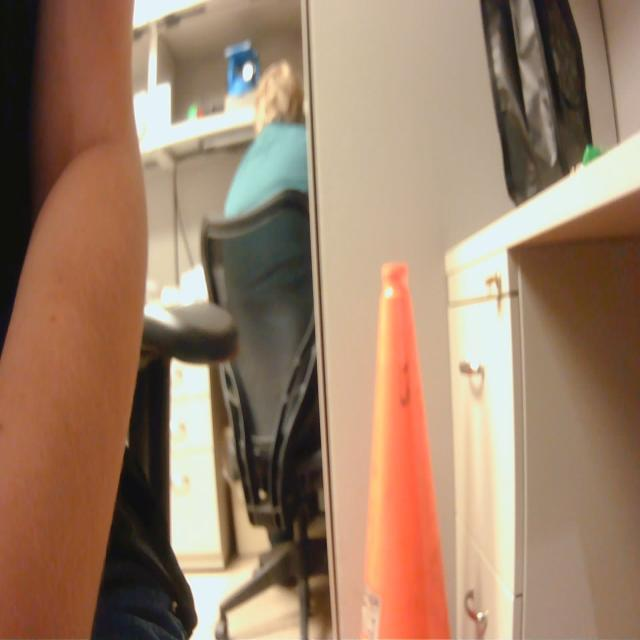traffic cone: (351, 258, 468, 640)
